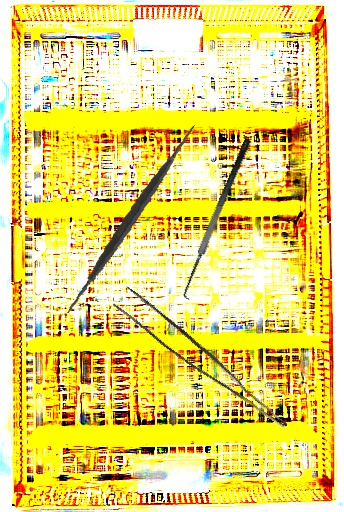Spatula Surgical: (33, 123, 230, 315), (174, 138, 266, 303)
Tissue Forceps: (108, 285, 302, 429)
